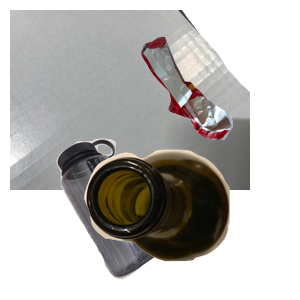cardboard: (10, 10, 250, 190)
glass: (82, 147, 300, 300)
plastic: (54, 136, 209, 300)
trash: (139, 34, 300, 167)
